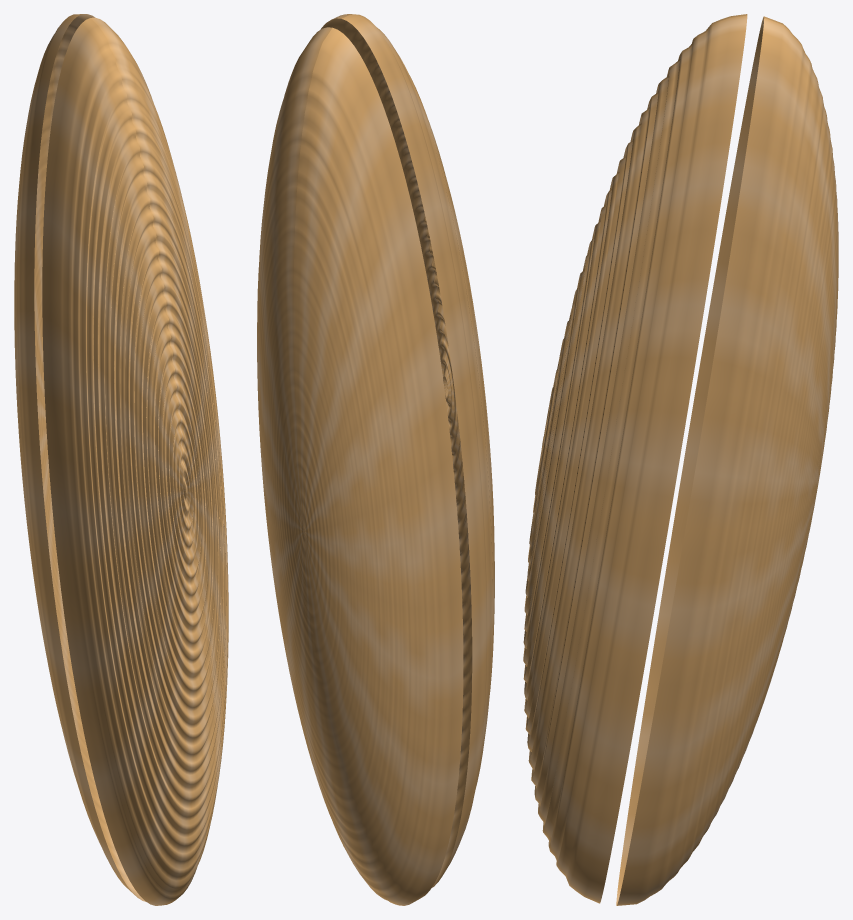
Rendered from razor-clam.glb.
3 views of the same model, side by side, from view 1: azimuth 30°, elevation 25°; view 2: azimuth 150°, elevation 25°; view 3: azimuth 270°, elevation 25° (orthographic). The views are drawn at different scales.
Parts seen in each view (by area): view 1: razor-clam; view 2: razor-clam; view 3: razor-clam.
Part boxes in pixels (box(x1,y1,x2,y2)): razor-clam: box(14, 14, 228, 905); razor-clam: box(257, 14, 494, 905); razor-clam: box(523, 14, 838, 905).
Size of the model in its own units: 0.4515 by 2.4 by 0.7733.
